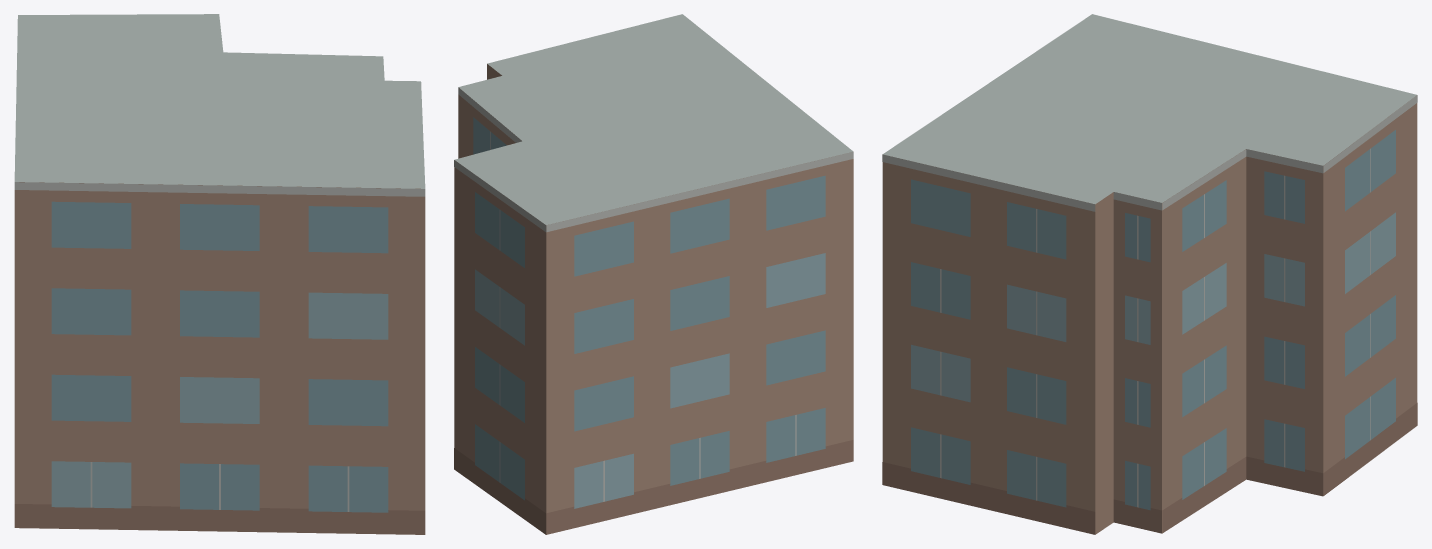
File: survey-upis-32995608.glb
The picture shows the model from 3 angles, left to right: view 1: azimuth 30°, elevation 25°; view 2: azimuth 150°, elevation 25°; view 3: azimuth 270°, elevation 25°; orthographic projection. The views are drawn at different scales.
Visible parts, largest first — view 1: survey-upis-32995608.tmp; view 2: survey-upis-32995608.tmp; view 3: survey-upis-32995608.tmp.
Boxes of the visible parts, <box> form: survey-upis-32995608.tmp: <box>14,14,425,534</box>; survey-upis-32995608.tmp: <box>454,14,853,534</box>; survey-upis-32995608.tmp: <box>882,14,1417,534</box>.
Size of the model in its own units: 13.1 by 10.6 by 15.56.
